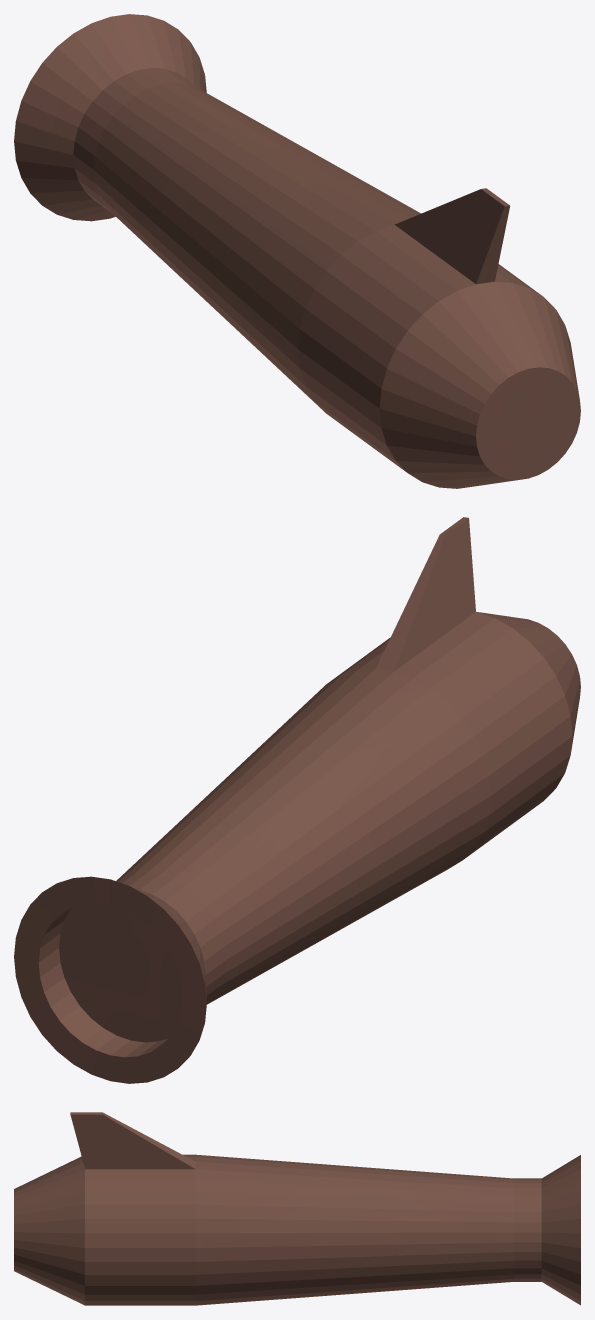
Rendered from cannon.fbx.
3 renders of one model, top to bottom at view 1: azimuth 30°, elevation 25°; view 2: azimuth 150°, elevation 25°; view 3: azimuth 270°, elevation 25°, orthographic. The views are drawn at different scales.
Parts seen in each view (by area): view 1: Cylinder; view 2: Cylinder; view 3: Cylinder.
Boxes of the visible parts, box(x1,y1,x2,y2) form: Cylinder: box(14, 14, 580, 488); Cylinder: box(14, 517, 580, 1083); Cylinder: box(14, 1112, 580, 1305).
Bounding box in the file's own units: 200 × 281 × 751.
